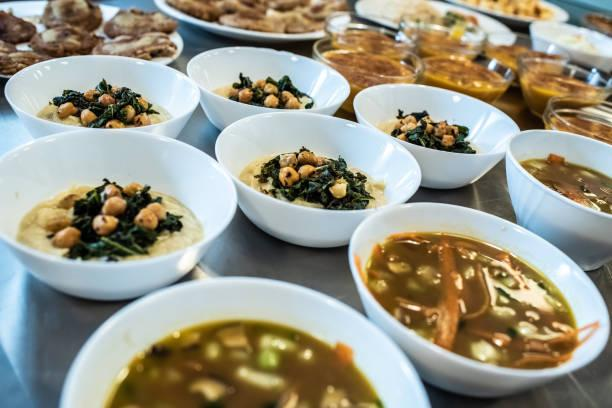Braised Crucian Carp: (348, 202, 608, 396), (0, 128, 236, 298), (353, 82, 515, 188), (5, 55, 199, 142), (185, 46, 346, 131)
